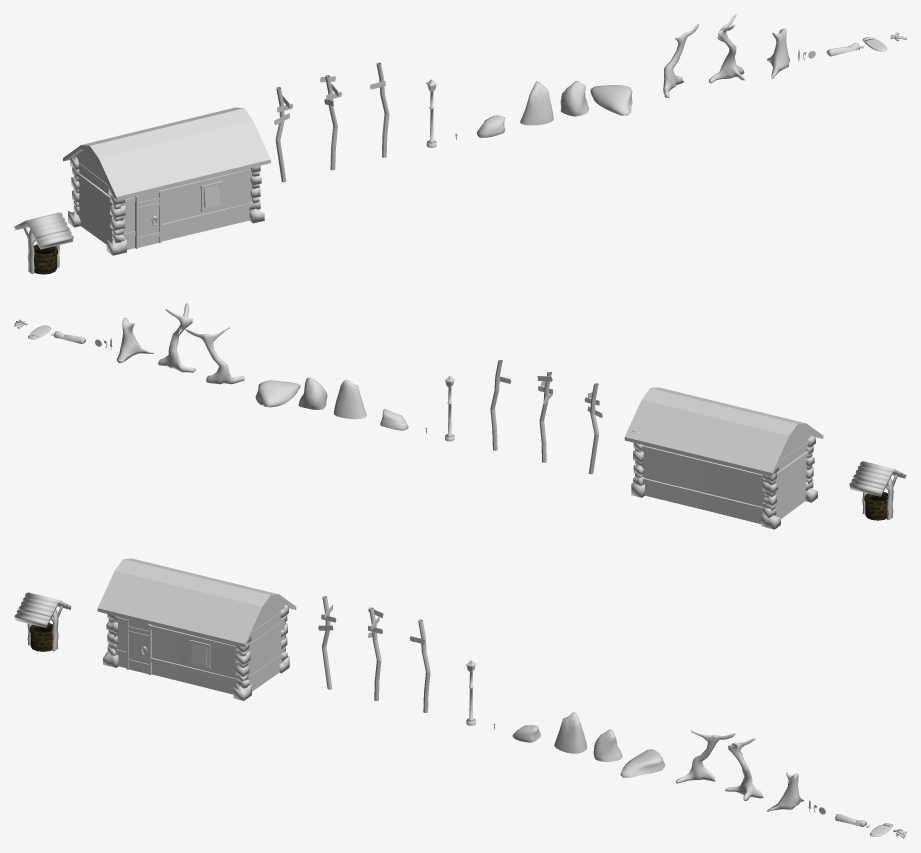
The model's file is GameJamAssets.fbx.
3 renders of one model, top to bottom at view 1: azimuth 30°, elevation 25°; view 2: azimuth 150°, elevation 25°; view 3: azimuth 330°, elevation 25°, orthographic. The views are drawn at different scales.
Visible parts, largest first — view 1: Casa, Poco_Teto, Pedra4, Pedra2, Cylinder.006, Pedra3, Cylinder.001, Cylinder.005, Cylinder, Cylinder.007, Poco_Base, Cylinder.002; view 2: Casa, Poco_Teto, Pedra2, Pedra4, Cylinder.005, Cylinder.006, Pedra3, Cylinder.007, Cylinder.001, Cylinder, Poco_Base, Cylinder.002; view 3: Casa, Poco_Teto, Pedra2, Pedra4, Cylinder.005, Cylinder.006, Pedra3, Cylinder.001, Cylinder, Cylinder.007, Poco_Base, Cylinder.002.
Boxes of the visible parts, x1=… form: Casa: x1=63, y1=107, x2=270, y2=255; Poco_Teto: x1=14, y1=212, x2=73, y2=273; Pedra4: x1=590, y1=85, x2=632, y2=115; Pedra2: x1=520, y1=81, x2=553, y2=125; Cylinder.006: x1=708, y1=14, x2=744, y2=83; Pedra3: x1=560, y1=81, x2=588, y2=116; Cylinder.001: x1=320, y1=75, x2=341, y2=170; Cylinder.005: x1=663, y1=23, x2=698, y2=97; Cylinder: x1=274, y1=87, x2=293, y2=182; Cylinder.007: x1=767, y1=28, x2=789, y2=78; Poco_Base: x1=33, y1=244, x2=57, y2=274; Cylinder.002: x1=370, y1=62, x2=389, y2=157; Casa: x1=624, y1=387, x2=823, y2=529; Poco_Teto: x1=849, y1=461, x2=906, y2=519; Pedra2: x1=333, y1=379, x2=366, y2=419; Pedra4: x1=255, y1=380, x2=300, y2=407; Cylinder.005: x1=185, y1=326, x2=244, y2=384; Cylinder.006: x1=157, y1=303, x2=195, y2=372; Pedra3: x1=298, y1=377, x2=327, y2=409; Cylinder.007: x1=116, y1=317, x2=153, y2=362; Cylinder.001: x1=537, y1=372, x2=552, y2=462; Cylinder: x1=584, y1=383, x2=602, y2=474; Poco_Base: x1=864, y1=492, x2=887, y2=520; Cylinder.002: x1=490, y1=360, x2=511, y2=450; Casa: x1=97, y1=558, x2=296, y2=700; Poco_Teto: x1=14, y1=592, x2=71, y2=651; Pedra2: x1=554, y1=711, x2=587, y2=753; Pedra4: x1=620, y1=749, x2=665, y2=777; Cylinder.005: x1=676, y1=730, x2=735, y2=783; Cylinder.006: x1=725, y1=738, x2=763, y2=800; Pedra3: x1=593, y1=729, x2=622, y2=762; Cylinder.001: x1=368, y1=607, x2=383, y2=700; Cylinder: x1=318, y1=596, x2=336, y2=689; Cylinder.007: x1=767, y1=772, x2=803, y2=811; Poco_Base: x1=29, y1=623, x2=52, y2=651; Cylinder.002: x1=409, y1=619, x2=430, y2=712.
Bounding box in the file's own units: 4.71 × 41.37 × 4.25.
